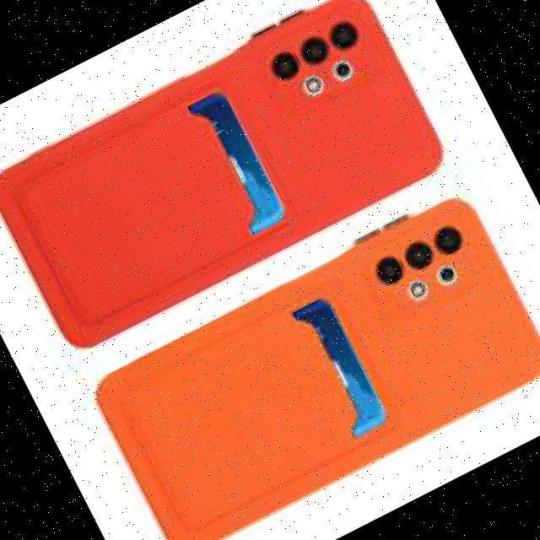phone: (0, 0, 472, 348), (103, 194, 540, 540)
